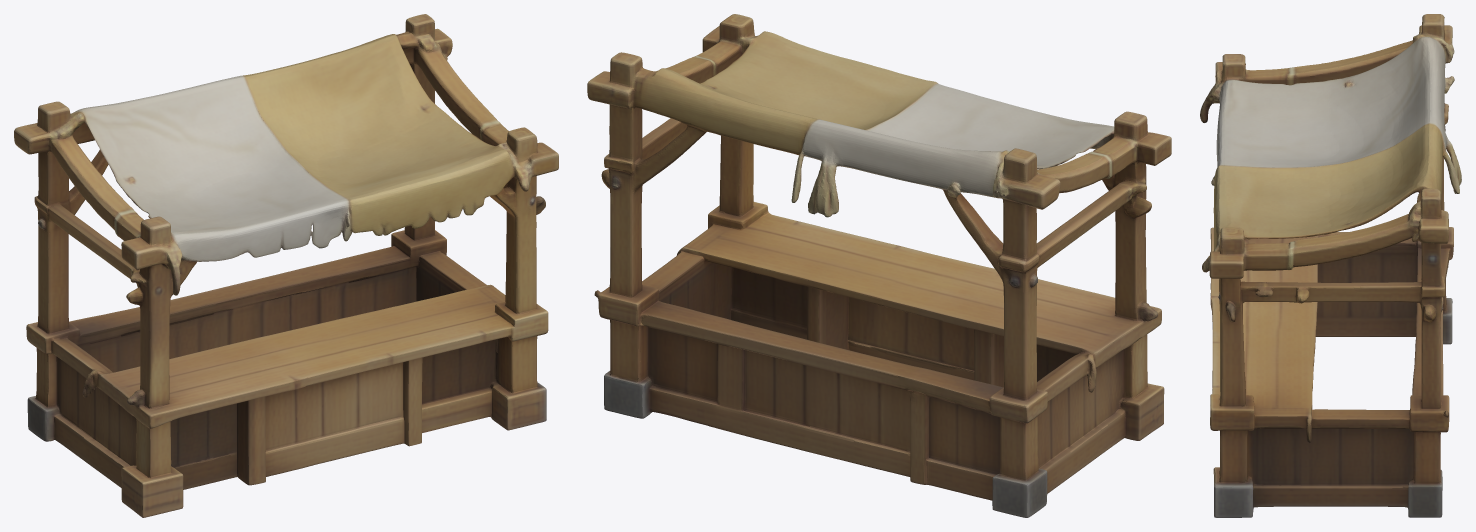
The model's file is marketplace_stall.glb.
The picture shows the model from 3 angles, left to right: view 1: azimuth 30°, elevation 25°; view 2: azimuth 150°, elevation 25°; view 3: azimuth 270°, elevation 25°; orthographic projection. The views are drawn at different scales.
Visible parts, largest first — view 1: world; view 2: world; view 3: world.
Boxes of the visible parts, bbox=[...] form: world: bbox=[14, 14, 558, 517]; world: bbox=[587, 14, 1171, 517]; world: bbox=[1200, 14, 1461, 517].
Bounding box in the file's own units: 0.9976 × 0.735 × 0.547.
